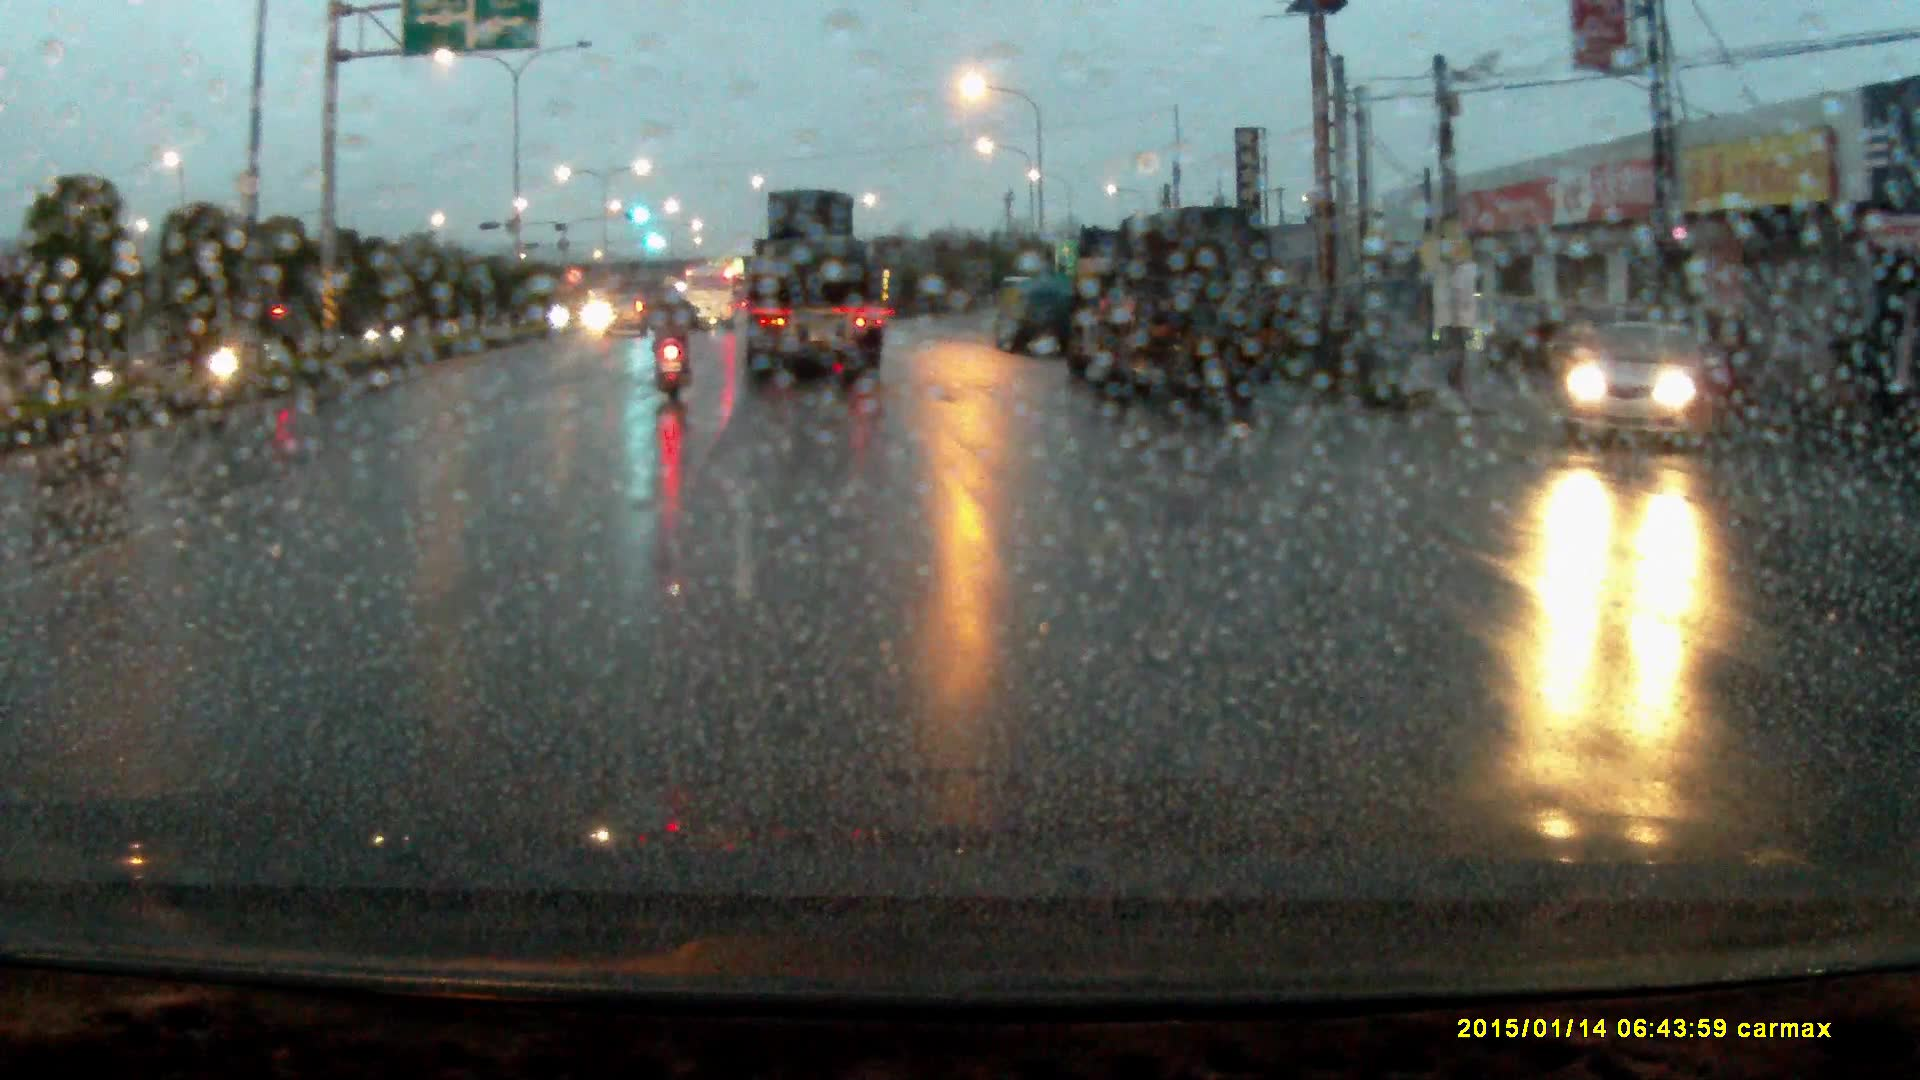rider: (647, 271, 703, 408)
vehicle: (1069, 198, 1289, 411), (745, 192, 885, 385), (1564, 317, 1740, 456), (998, 275, 1082, 357), (687, 267, 736, 330), (597, 288, 651, 336)
